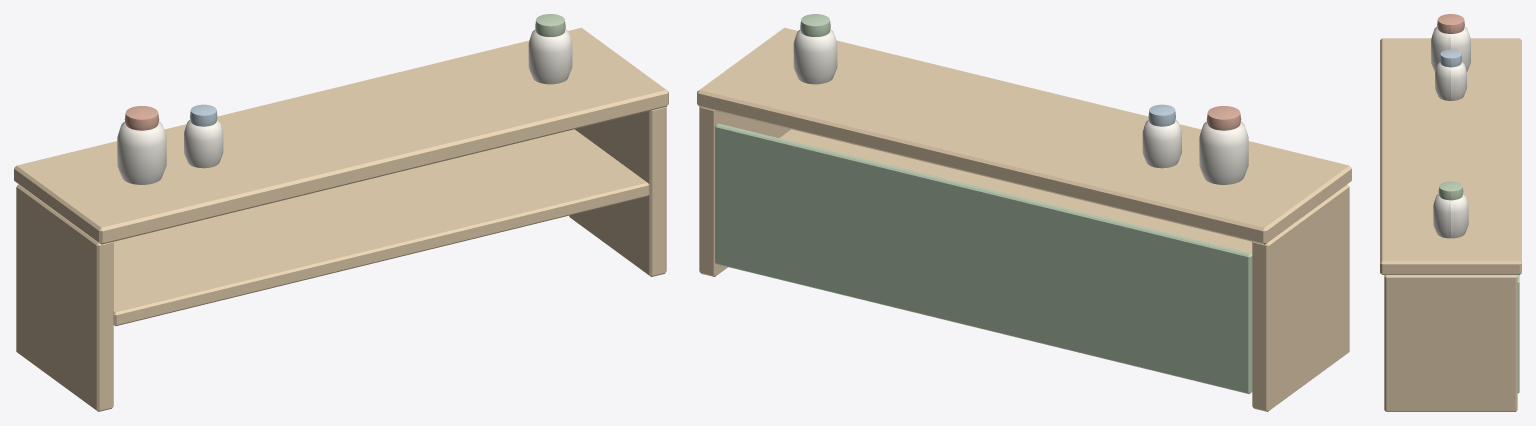
Rendered from jelly-friends-playroom-shelf-low-oak-5eea0302__27640.glb.
The picture shows the model from 3 angles, left to right: view 1: azimuth 30°, elevation 25°; view 2: azimuth 150°, elevation 25°; view 3: azimuth 270°, elevation 25°; orthographic projection. The views are drawn at different scales.
Parts seen in each view (by area): view 1: shelf-low-oak; view 2: shelf-low-oak; view 3: shelf-low-oak.
Part boxes in pixels (x1,y1,x2,y2): shelf-low-oak: [14, 14, 668, 411]; shelf-low-oak: [697, 14, 1351, 411]; shelf-low-oak: [1380, 14, 1521, 411].
Bounding box in the file's own units: 1.2 × 0.506 × 0.32.
